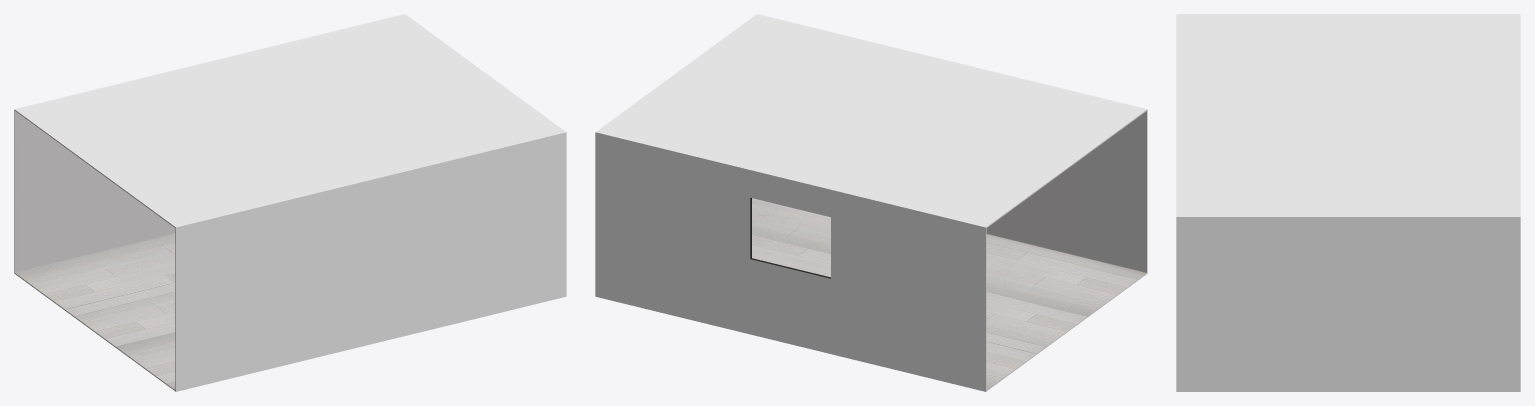
The model's file is maison3.FBX.
The picture shows the model from 3 angles, left to right: view 1: azimuth 30°, elevation 25°; view 2: azimuth 150°, elevation 25°; view 3: azimuth 270°, elevation 25°; orthographic projection. The views are drawn at different scales.
Visible parts, largest first — view 1: Box002; view 2: Box002; view 3: Box002.
Part boxes in pixels (x1=…): Box002: x1=14, y1=14, x2=566, y2=391; Box002: x1=595, y1=14, x2=1147, y2=391; Box002: x1=1176, y1=14, x2=1520, y2=391.
Bounding box in the file's own units: 692 × 278 × 496.
